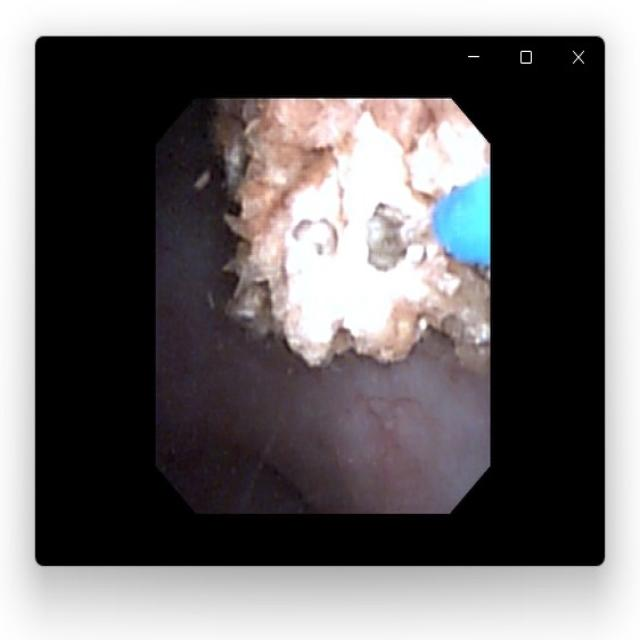fiber: (441, 174, 485, 259)
stone: (216, 104, 488, 366)
